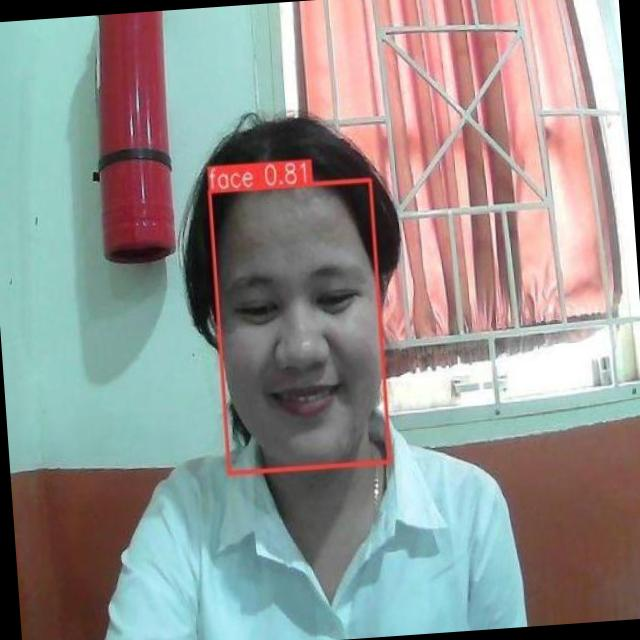bareface: (191, 151, 378, 470)
